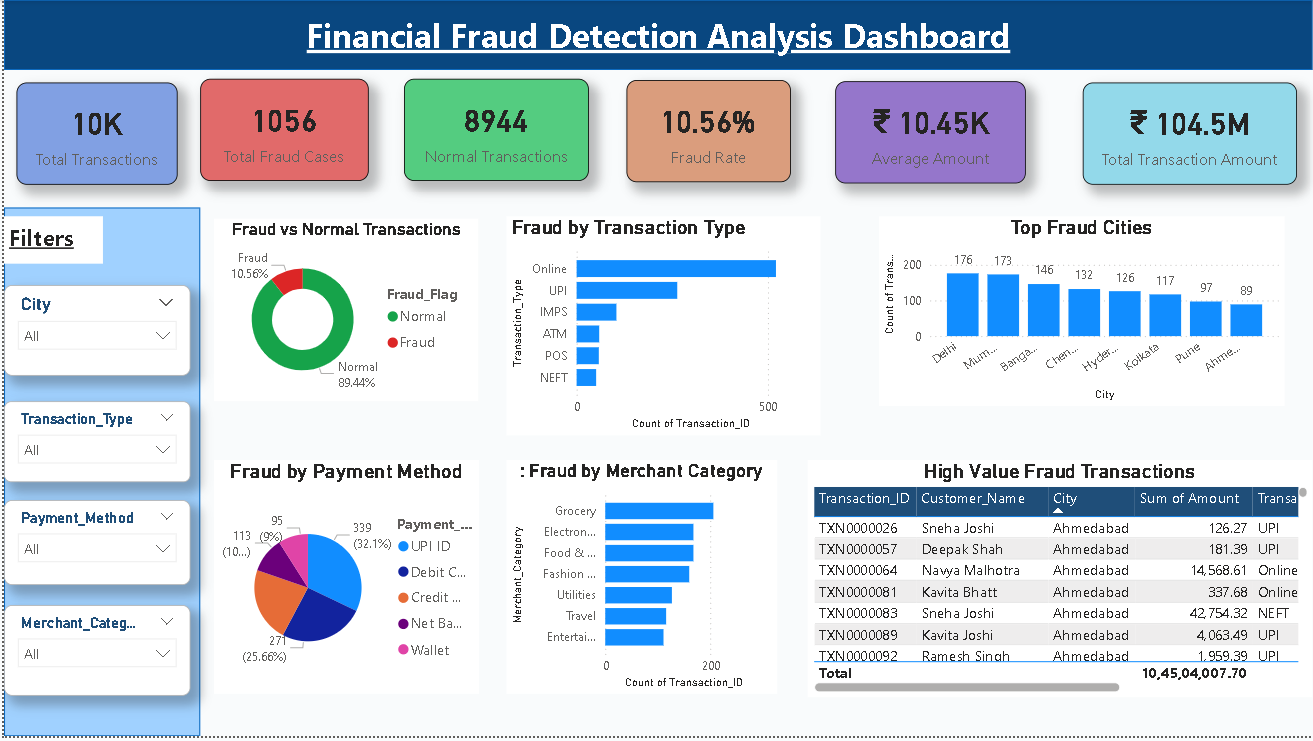

What the dashboard file says about the page in this screenshot:
{"tool":"powerbi","page":{"name":"Page 1","canvas":[1280,720],"ordinal":0},"visuals":[{"type":"card","fields":{"Values":["fraud_report.Normal Transactions"]},"box":[391.1,76.8,181.1,100.2],"z":0},{"type":"card","fields":{"Values":["fraud_report.Total Fraud Cases"]},"box":[192.1,76.8,164.7,100.2],"z":1000},{"type":"card","fields":{"Values":["fraud_report.Total Transactions"]},"box":[12.2,80.7,157.7,100.3],"z":2000},{"type":"card","fields":{"Values":["fraud_report.Fraud Rate"]},"box":[609.3,78.2,160.5,100.2],"z":3000},{"type":"card","fields":{"Values":["fraud_report.Average Amount"]},"box":[813.7,79.6,186.6,100.2],"z":4000},{"type":"card","fields":{"Values":["fraud_report.Total Amount"]},"box":[1055.2,81,209.9,100.2],"z":5000},{"type":"donutChart","title":"Fraud vs Normal Transactions","fields":{"Category":["fraud_report.Fraud_Flag"],"Y":["CountNonNull(fraud_report.Transaction_ID)"]},"box":[205.9,214.3,258.8,178.1],"z":6000},{"type":"clusteredBarChart","title":"Fraud by Transaction Type","fields":{"Y":["CountNonNull(fraud_report.Transaction_ID)"],"Category":["fraud_report.Transaction_Type"]},"box":[491.3,211.3,307.4,214.1],"z":7000},{"type":"clusteredColumnChart","title":"Top Fraud Cities","fields":{"Category":["fraud_report.City"],"Y":["CountNonNull(fraud_report.Transaction_ID)"]},"box":[856.3,211.3,396.6,185.2],"z":8000},{"type":"slicer","title":"Filters","fields":{"Values":["fraud_report.City"]},"box":[0,277.6,159,80.7],"z":9000},{"type":"pieChart","title":"Fraud by Payment Method","fields":{"Y":["CountNonNull(fraud_report.Transaction_ID)"],"Category":["fraud_report.Payment_Method"]},"box":[205.4,450,259.2,228.7],"z":10000},{"type":"tableEx","title":"High Value Fraud Transactions","fields":{"Values":["fraud_report.Transaction_ID","fraud_report.Customer_Name","fraud_report.City","Sum(fraud_report.Amount)","fraud_report.Transaction_Type","fraud_report.Merchant_Category","fraud_report.Fraud_Flag"]},"box":[786.3,450.1,494,231.9],"z":11000},{"type":"shape","box":[0,203,192,517.3],"z":11500},{"type":"slicer","fields":{"Values":["fraud_report.Transaction_Type"]},"box":[0,392.3,182.3,79.3],"z":12000},{"type":"slicer","fields":{"Values":["fraud_report.Payment_Method"]},"box":[0,489.7,182.3,83.5],"z":13000},{"type":"slicer","fields":{"Values":["fraud_report.Merchant_Category"]},"box":[0,591.3,182.3,89],"z":14000},{"type":"slicer","title":"Cities","fields":{"Values":["fraud_report.City"]},"box":[0,278.3,182.3,89],"z":14500},{"type":"barChart","title":": Fraud by Merchant Category","fields":{"Category":["fraud_report.Merchant_Category"],"Y":["CountNonNull(fraud_report.Transaction_ID)"]},"box":[491.3,450.1,264.8,229.2],"z":15000},{"type":"shape","box":[0,0,1280.3,68.5],"z":16000},{"type":"textbox","box":[0,211.6,96.6,46.5],"z":17000}]}

Visuals, with their boxes in screenshot pixels (x1, y1, x2, y2), scaled from the page's 1280x720 canvas onto the 1313x741 screenshot:
card - fraud_report.Normal Transactions: [x1=401, y1=79, x2=587, y2=182]
card - fraud_report.Total Fraud Cases: [x1=197, y1=79, x2=366, y2=182]
card - fraud_report.Total Transactions: [x1=13, y1=83, x2=174, y2=186]
card - fraud_report.Fraud Rate: [x1=625, y1=80, x2=790, y2=184]
card - fraud_report.Average Amount: [x1=835, y1=82, x2=1026, y2=185]
card - fraud_report.Total Amount: [x1=1082, y1=83, x2=1298, y2=186]
"Fraud vs Normal Transactions" donutChart: [x1=211, y1=221, x2=477, y2=404]
"Fraud by Transaction Type" clusteredBarChart: [x1=504, y1=217, x2=819, y2=438]
"Top Fraud Cities" clusteredColumnChart: [x1=878, y1=217, x2=1285, y2=408]
"Filters" slicer: [x1=0, y1=286, x2=163, y2=369]
"Fraud by Payment Method" pieChart: [x1=211, y1=463, x2=477, y2=698]
"High Value Fraud Transactions" tableEx: [x1=807, y1=463, x2=1312, y2=702]
shape: [x1=0, y1=209, x2=197, y2=740]
slicer - fraud_report.Transaction_Type: [x1=0, y1=404, x2=187, y2=485]
slicer - fraud_report.Payment_Method: [x1=0, y1=504, x2=187, y2=590]
slicer - fraud_report.Merchant_Category: [x1=0, y1=609, x2=187, y2=700]
"Cities" slicer: [x1=0, y1=286, x2=187, y2=378]
": Fraud by Merchant Category" barChart: [x1=504, y1=463, x2=776, y2=699]
shape: [x1=0, y1=0, x2=1312, y2=70]
textbox: [x1=0, y1=218, x2=99, y2=266]
